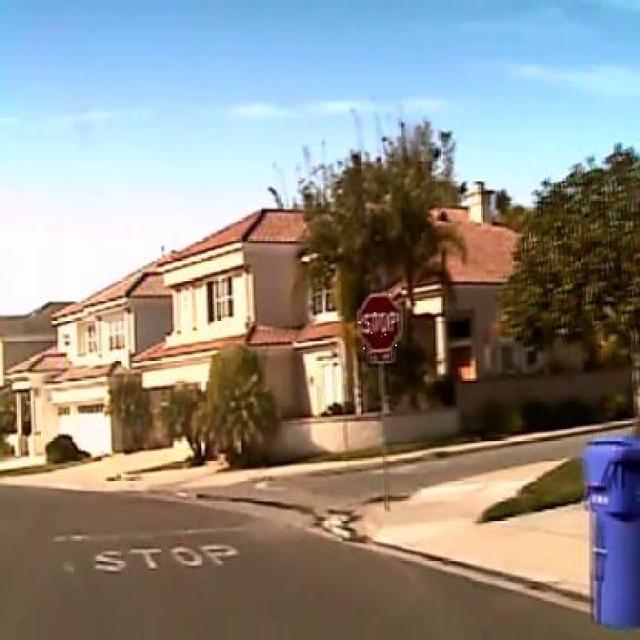stop: (357, 292, 401, 352)
